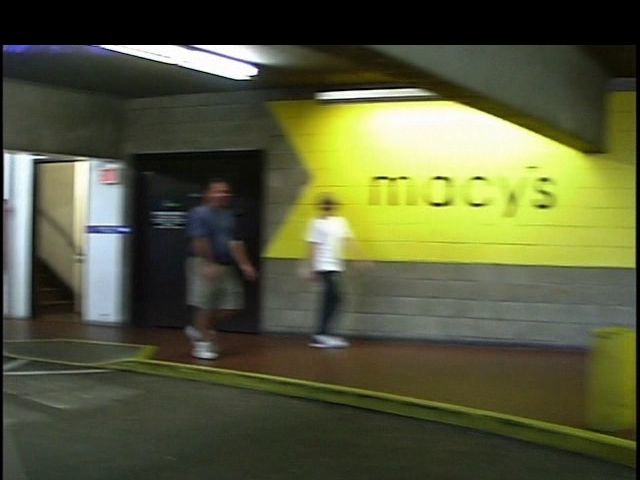person: (162, 173, 249, 364), (270, 188, 355, 361)
